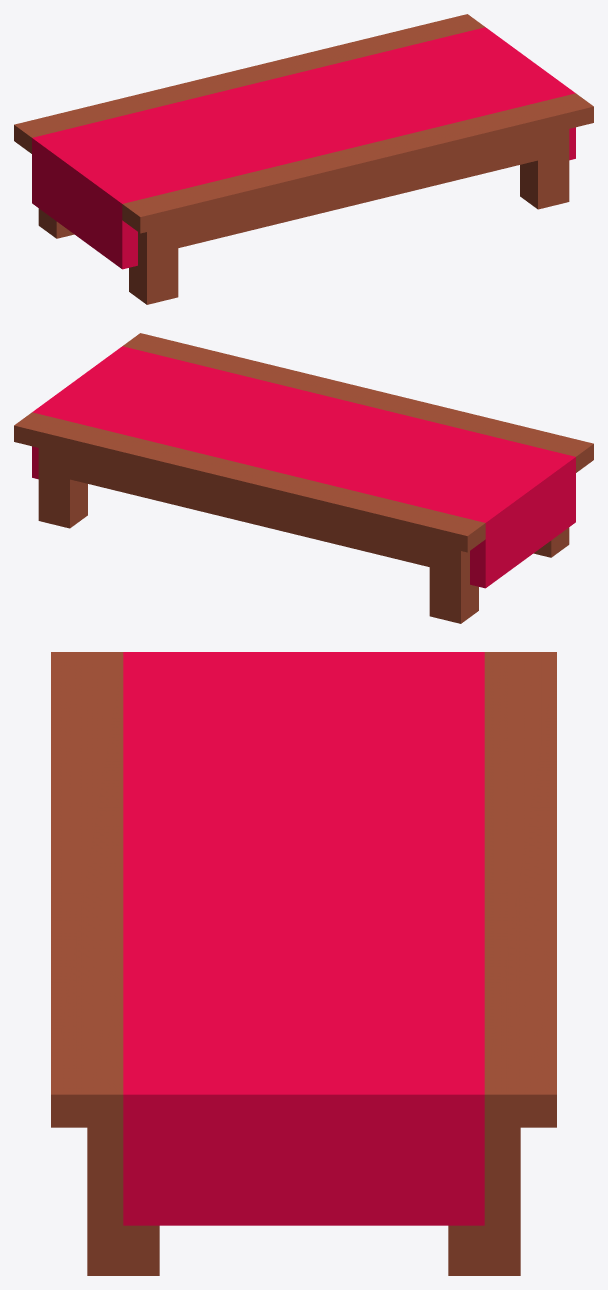
The model's file is large_table_a_red.obj.
The picture shows the model from 3 angles, top to bottom: view 1: azimuth 30°, elevation 25°; view 2: azimuth 150°, elevation 25°; view 3: azimuth 270°, elevation 25°; orthographic projection. The views are drawn at different scales.
Bounding box in the file's own units: 2.9 × 0.6 × 1.4.
Materials: 1 (1 with a texture image).
